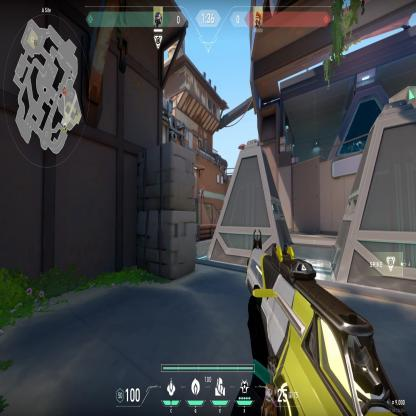enemy: (200, 184, 204, 199)
